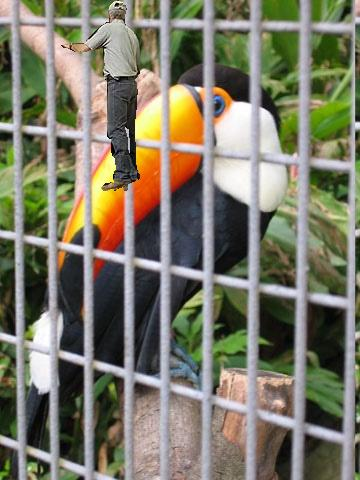tampered: (62, 1, 140, 191)
